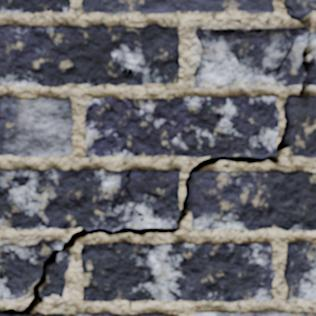brick: (85, 96, 278, 157), (81, 242, 274, 301), (0, 24, 178, 86), (0, 169, 179, 229), (190, 171, 315, 230), (0, 97, 72, 156), (82, 0, 273, 13), (284, 241, 315, 299), (288, 96, 315, 157), (0, 0, 69, 13), (196, 311, 315, 315), (287, 0, 309, 12), (67, 314, 165, 315), (309, 0, 315, 10), (32, 314, 46, 315), (15, 314, 28, 315)
broken_brick: (193, 26, 306, 87), (0, 240, 64, 299), (42, 250, 71, 298), (310, 50, 315, 86), (312, 29, 315, 41)
crack: (0, 0, 315, 315), (109, 169, 144, 222), (232, 242, 251, 266), (101, 24, 145, 34), (204, 29, 273, 31)
